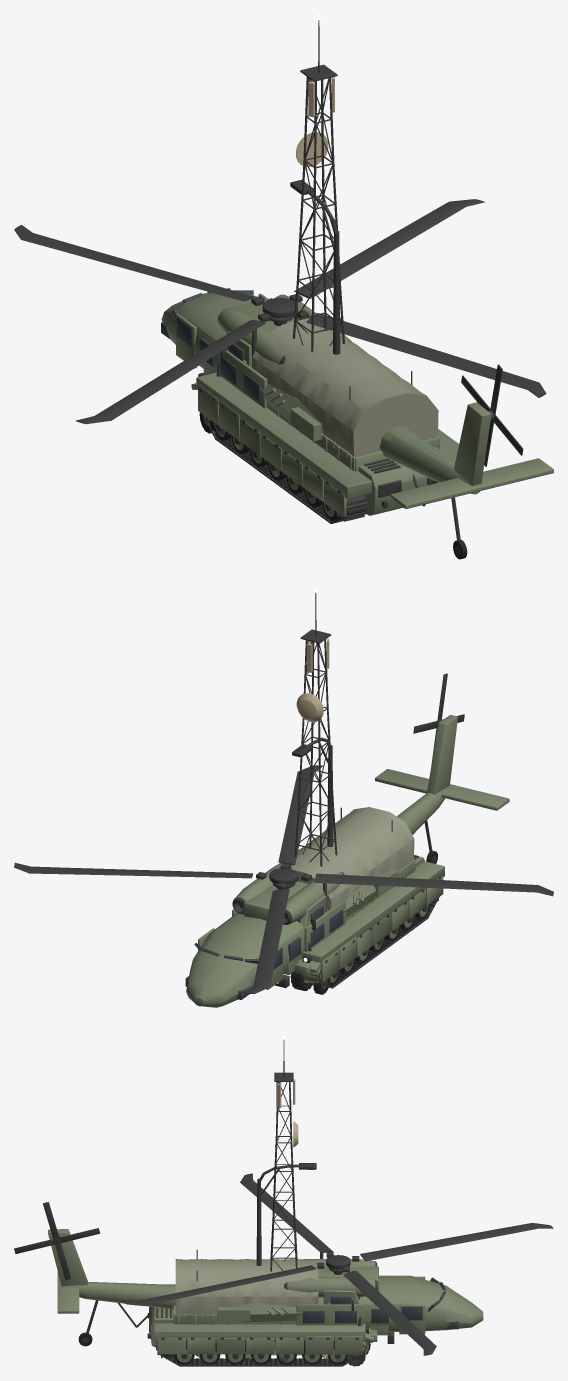
The model's file is props.glb.
The picture shows the model from 3 angles, top to bottom: view 1: azimuth 30°, elevation 25°; view 2: azimuth 150°, elevation 25°; view 3: azimuth 270°, elevation 25°; orthographic projection. The views are drawn at different scales.
Visible parts, largest first — view 1: TRUCK_Bed_Canopy, HELI_Rotors, HELI_Fuselage, TANK_Hull, ANTENNA_Tower, HELI_Doors_Glass, TANK_Tracks, TANK_Turret, LAMP_Mesh, HELI_Landing_Gear, TRUCK_Cab_Chassis; view 2: HELI_Fuselage, HELI_Rotors, TRUCK_Bed_Canopy, TANK_Hull, ANTENNA_Tower, HELI_Doors_Glass, TANK_Tracks, TANK_Turret, TRUCK_Cab_Chassis, LAMP_Mesh; view 3: HELI_Fuselage, TANK_Hull, HELI_Rotors, TRUCK_Bed_Canopy, HELI_Doors_Glass, TANK_Tracks, ANTENNA_Tower, TANK_Turret, TRUCK_Cab_Chassis, LAMP_Mesh, HELI_Landing_Gear.
Boxes of the visible parts, x1=… form: TRUCK_Bed_Canopy: x1=252, y1=318, x2=439, y2=471; HELI_Rotors: x1=14, y1=199, x2=546, y2=466; HELI_Fuselage: x1=161, y1=293, x2=553, y2=508; TANK_Hull: x1=191, y1=372, x2=459, y2=517; ANTENNA_Tower: x1=293, y1=14, x2=344, y2=352; HELI_Doors_Glass: x1=161, y1=288, x2=267, y2=408; TANK_Tracks: x1=201, y1=413, x2=368, y2=523; TANK_Turret: x1=260, y1=371, x2=412, y2=441; LAMP_Mesh: x1=290, y1=180, x2=340, y2=354; HELI_Landing_Gear: x1=199, y1=363, x2=467, y2=559; TRUCK_Cab_Chassis: x1=198, y1=329, x2=256, y2=376; HELI_Fuselage: x1=186, y1=715, x2=509, y2=1007; HELI_Rotors: x1=14, y1=673, x2=553, y2=993; TRUCK_Bed_Canopy: x1=271, y1=807, x2=415, y2=921; TANK_Hull: x1=289, y1=855, x2=444, y2=982; ANTENNA_Tower: x1=294, y1=588, x2=337, y2=866; HELI_Doors_Glass: x1=185, y1=899, x2=345, y2=999; TANK_Tracks: x1=302, y1=897, x2=439, y2=988; TANK_Turret: x1=340, y1=807, x2=397, y2=917; TRUCK_Cab_Chassis: x1=274, y1=883, x2=326, y2=987; LAMP_Mesh: x1=292, y1=737, x2=333, y2=846; HELI_Fuselage: x1=48, y1=1229, x2=483, y2=1341; TANK_Hull: x1=147, y1=1306, x2=373, y2=1354; HELI_Rotors: x1=14, y1=1173, x2=553, y2=1355; TRUCK_Bed_Canopy: x1=173, y1=1259, x2=318, y2=1324; HELI_Doors_Glass: x1=296, y1=1276, x2=458, y2=1334; TANK_Tracks: x1=156, y1=1340, x2=366, y2=1366; ANTENNA_Tower: x1=270, y1=1036, x2=301, y2=1355; TANK_Turret: x1=196, y1=1249, x2=302, y2=1321; TRUCK_Cab_Chassis: x1=304, y1=1252, x2=394, y2=1344; LAMP_Mesh: x1=256, y1=1163, x2=316, y2=1265; HELI_Landing_Gear: x1=78, y1=1300, x2=365, y2=1366.
Bounding box in the file's own units: 15.18 × 12 × 19.01.
